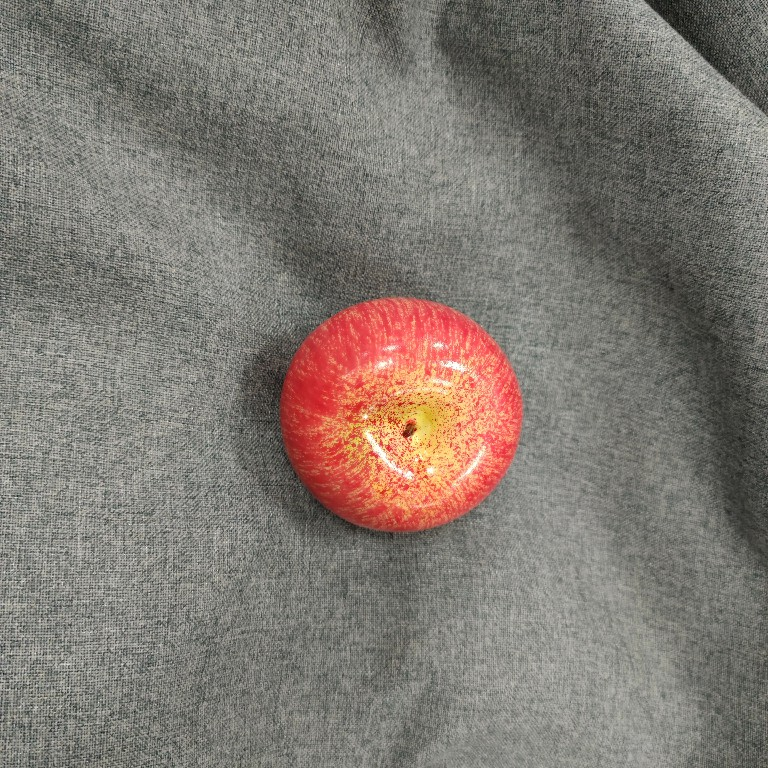fruit_apple: (272, 289, 529, 538)
